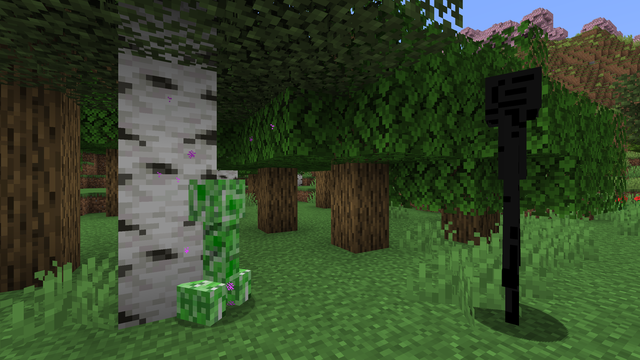creepers: (189, 172, 246, 324)
endermens: (472, 55, 555, 337)
